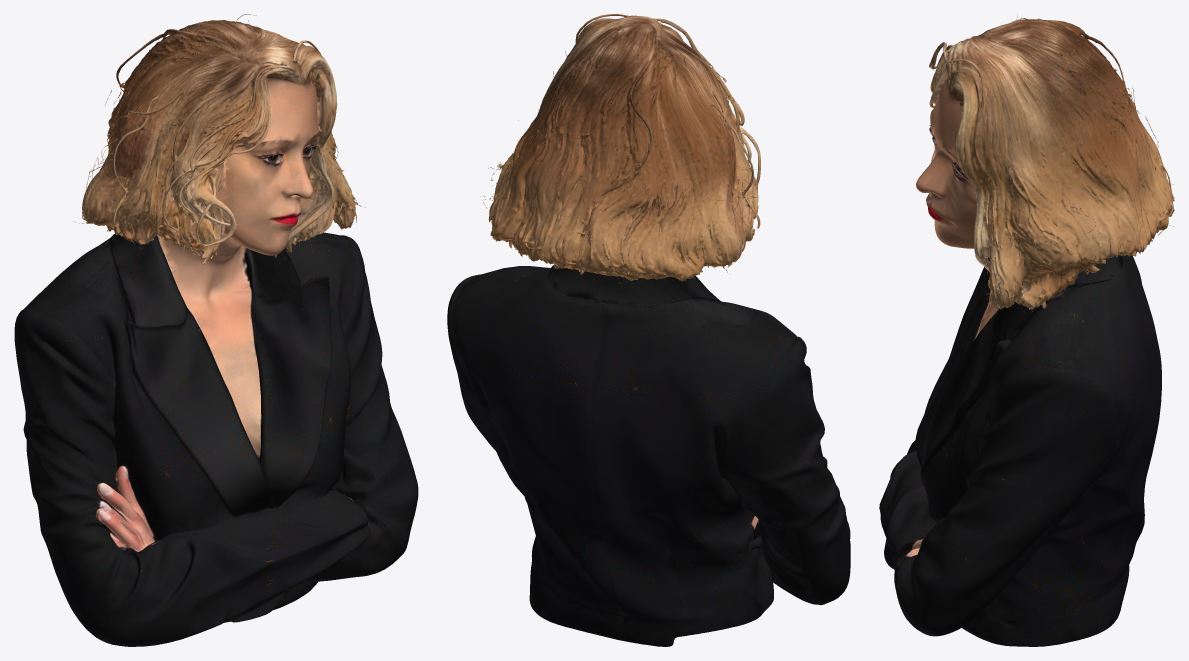
File: midnight-portrait-about.glb
3 renders of one model, left to right at view 1: azimuth 30°, elevation 25°; view 2: azimuth 150°, elevation 25°; view 3: azimuth 270°, elevation 25°, orthographic. The views are drawn at different scales.
Size of the model in its own units: 1.24 by 1.9 by 0.8775.
Materials: 1 (1 with a texture image).
